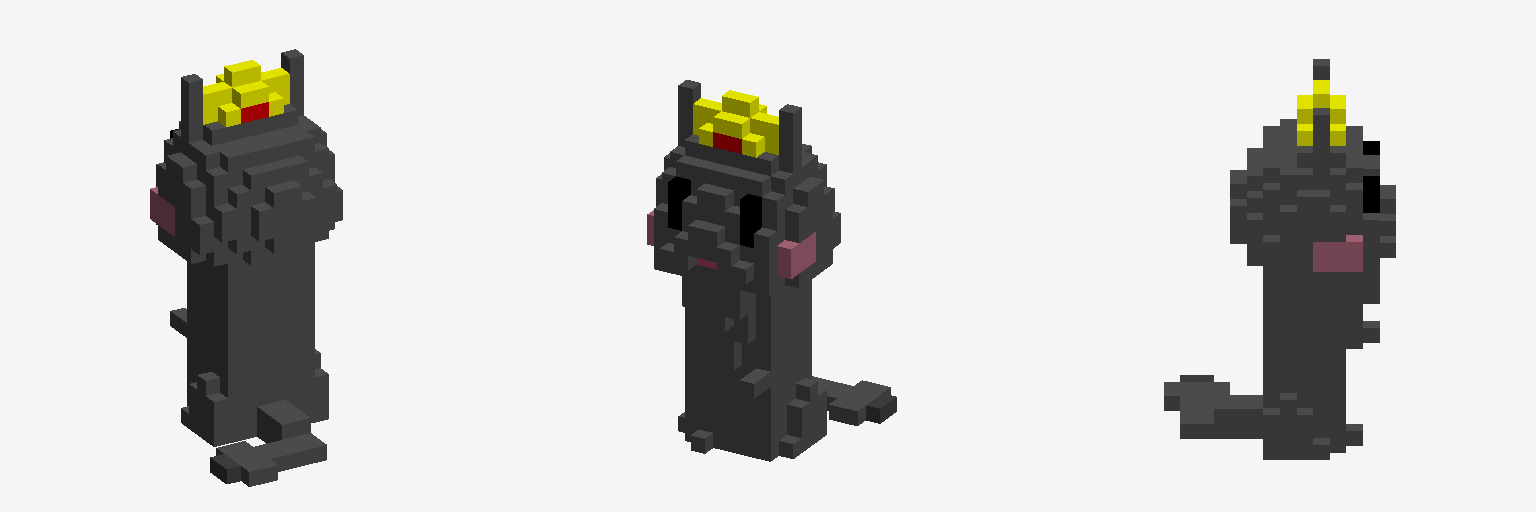
The picture shows the model from 3 angles: view 1: azimuth 30°, elevation 25°; view 2: azimuth 150°, elevation 25°; view 3: azimuth 270°, elevation 25°; orthographic projection.
Parts seen in each view (by area): view 1: object 1; view 2: object 1; view 3: object 1.
Boxes of the visible parts, x1=… form: object 1: x1=150, y1=49, x2=342, y2=486; object 1: x1=647, y1=80, x2=896, y2=461; object 1: x1=1164, y1=59, x2=1395, y2=459.
Size of the model in its own units: 1.1 by 2.3 by 1.4.
1 materials, 1 textured.